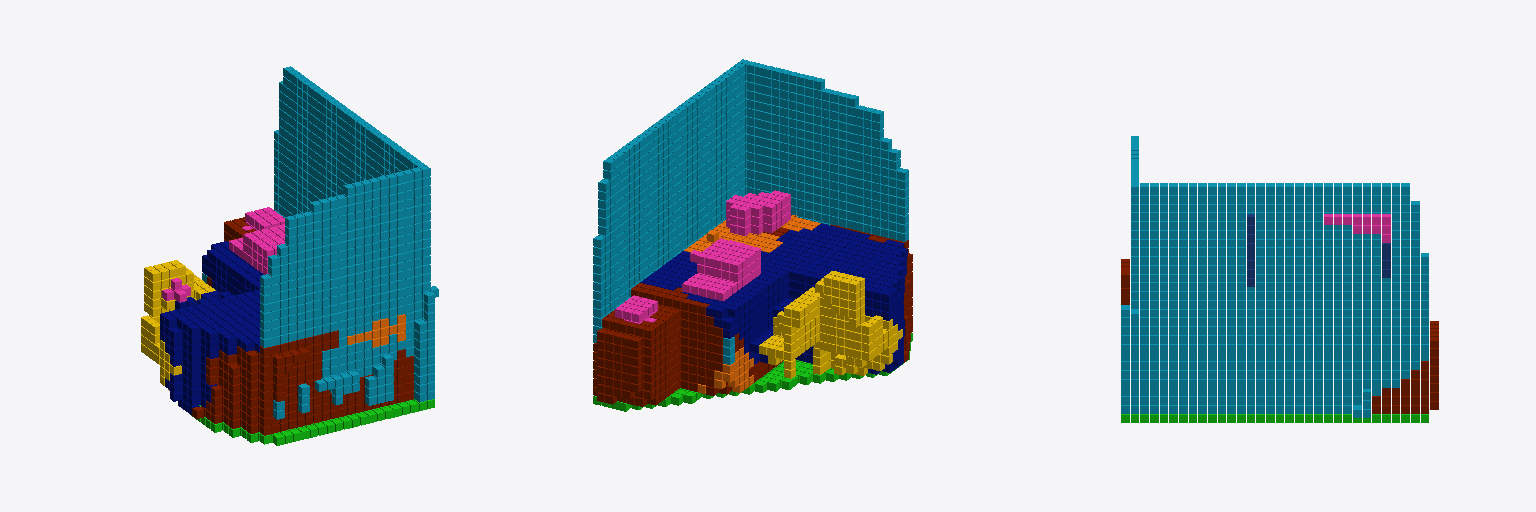
The model's file is ResUNet_NYUCAD_k3_depth_f3_pred_NYU0524_0000_obj.obj.
3 views of the same model, side by side, from view 1: azimuth 30°, elevation 25°; view 2: azimuth 150°, elevation 25°; view 3: azimuth 270°, elevation 25° (orthographic).
Parts seen in each view (by area): view 1: Cube; view 2: Cube; view 3: Cube.
Boxes of the visible parts, <box> form: Cube: <box>141,66,438,445</box>; Cube: <box>593,59,912,411</box>; Cube: <box>1121,136,1438,422</box>.
Size of the model in its own units: 2.07 by 2.15 by 2.63.